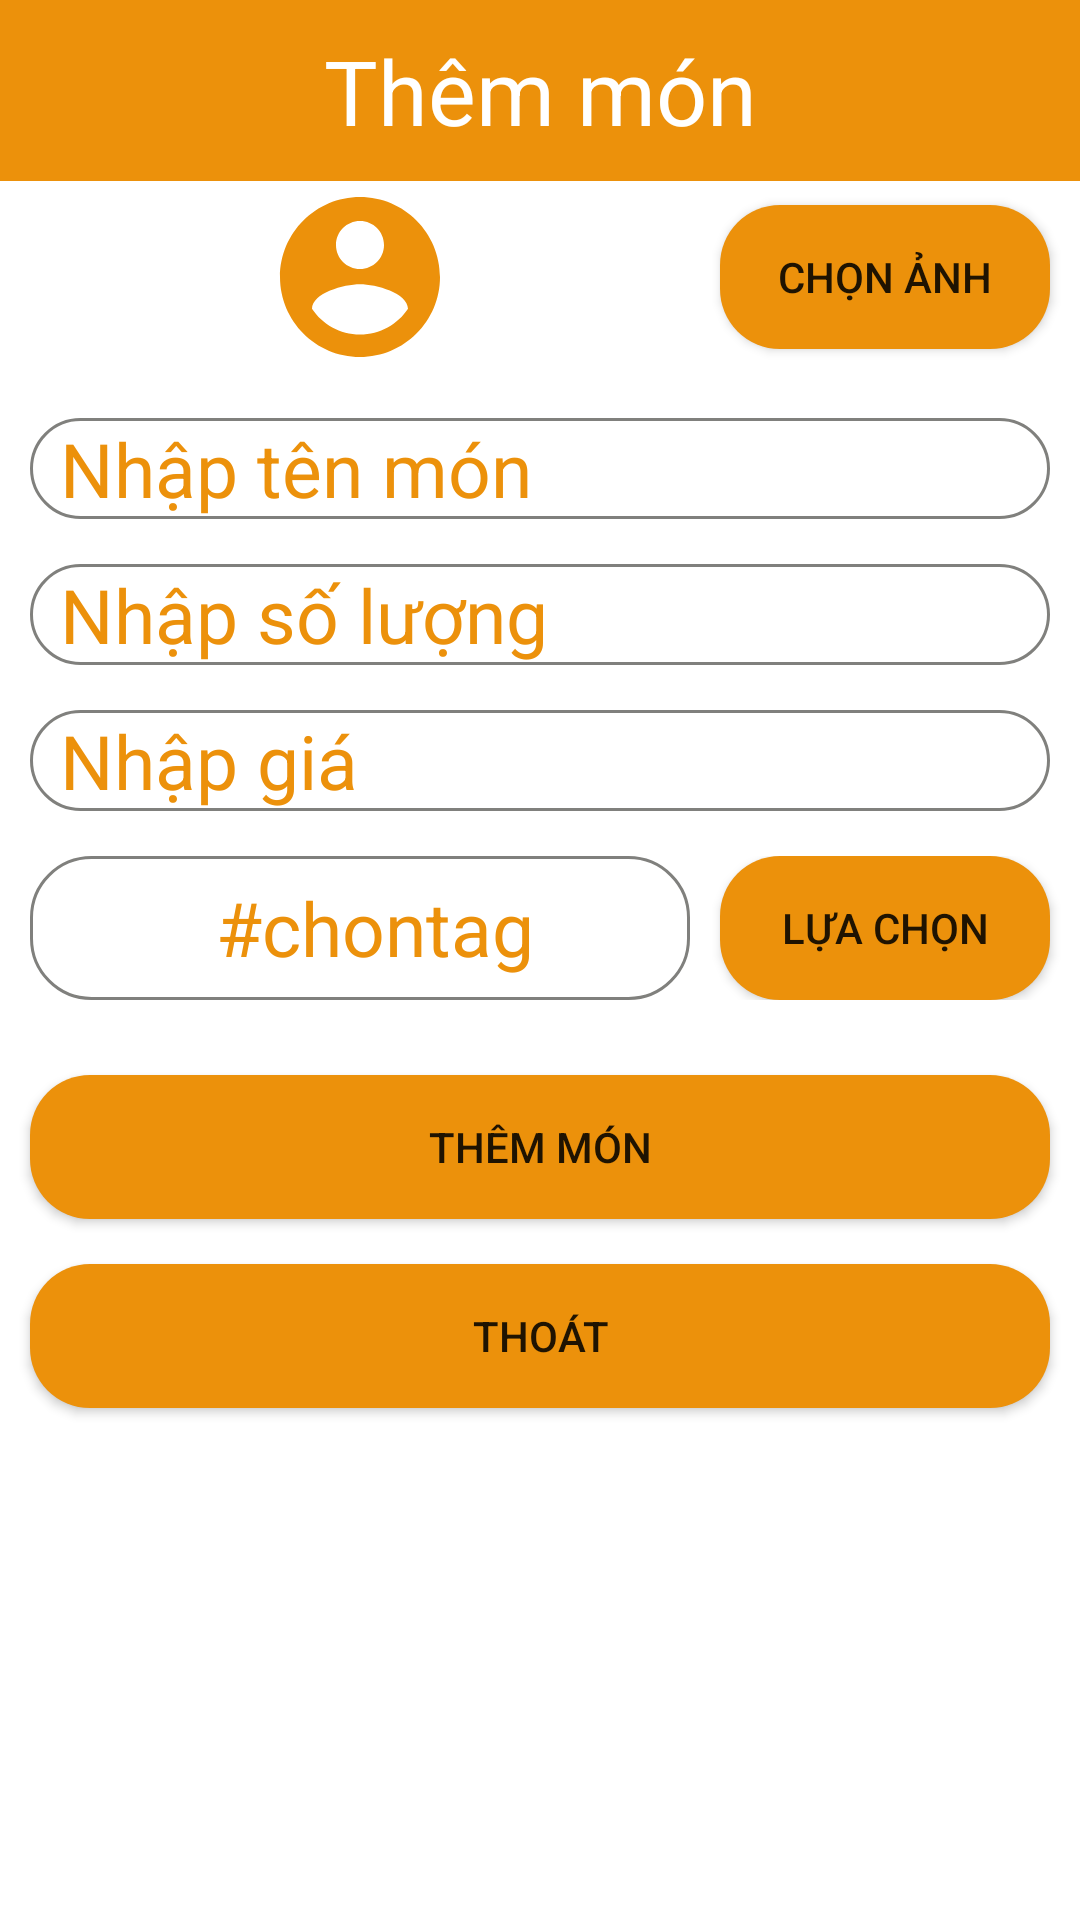

Where to tap for icons on this 1080 × 1920 app screen, as [x,y]:
account avt: [360,277]
